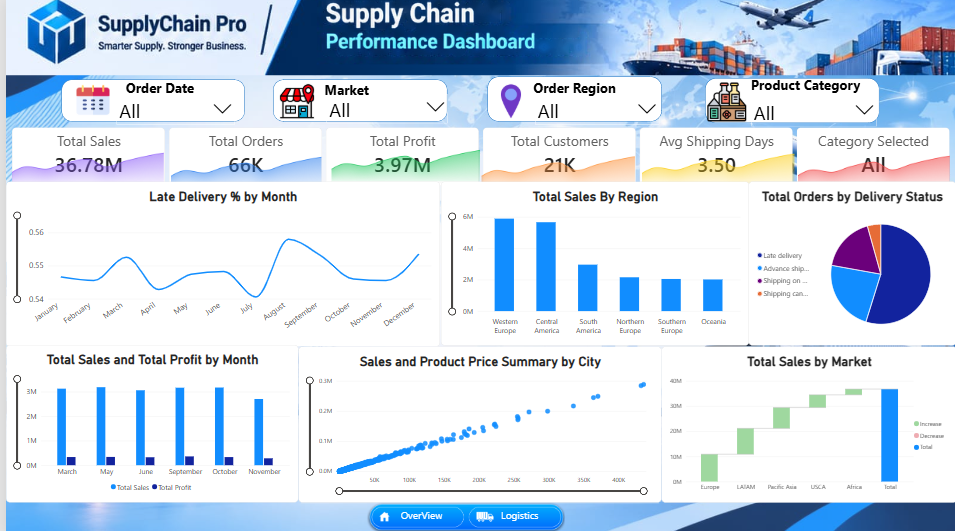

What the dashboard file says about the page in this screenshot:
{"tool":"powerbi","page":{"name":"OverView ","canvas":[1920,1080],"ordinal":0},"visuals":[{"type":"image","box":[1446.4,10.7,473.2,123.2],"z":0},{"type":"image","box":[0,0,1920,151.9],"z":1000},{"type":"shape","box":[112.4,161,370.6,85.1],"z":2000},{"type":"slicer","title":"  Market","fields":{"Values":["DataCoSupplyChainDataset.order date (DateOrders)"]},"box":[218.7,188.4,249.1,115.4],"z":3000},{"type":"shape","box":[103.3,148.9,416.2,54.7],"z":4000},{"type":"image","box":[1193.3,376.7,352.4,75.9],"z":4000,"group":"g1"},{"type":"shape","box":[540.8,161,352.4,85.1],"z":5000},{"type":"slicer","title":"  Market","fields":{"Values":["DataCoSupplyChainDataset.Market"]},"box":[641,185.3,255.2,115.4],"z":6000},{"type":"shape","box":[486.1,148.9,407.1,63.8],"z":7000},{"type":"shape","box":[972.2,154.9,352.4,91.1],"z":8000},{"type":"shape","box":[1412.7,158,352.4,91.1],"z":9000},{"type":"slicer","title":"  Market","fields":{"Values":["DataCoSupplyChainDataset.Order Region"]},"box":[1063.3,188.4,261.3,115.4],"z":10000},{"type":"slicer","title":"  Market","fields":{"Values":["DataCoSupplyChainDataset.Product Category Id"]},"box":[1500.8,191.4,264.3,115.4],"z":11000},{"type":"shape","box":[996.5,148.9,303.8,57.7],"z":12000},{"type":"shape","box":[1467.3,142.8,297.7,57.7],"z":13000},{"type":"image","box":[142.8,148.9,66.8,106.3],"z":14000},{"type":"image","box":[540.8,167.1,97.2,75.9],"z":15000},{"type":"image","box":[914.4,164.1,209.6,82],"z":16000},{"type":"image","box":[1412.7,167.1,88.1,79],"z":17000},{"type":"cardVisual","fields":{"Data":["DataCoSupplyChainDataset.Total Sales","DataCoSupplyChainDataset.Total Orders","DataCoSupplyChainDataset.Total Profit","DataCoSupplyChainDataset.Total Customers","DataCoSupplyChainDataset.Avg Shipping Days","DataCoSupplyChainDataset.Category Selected"]},"box":[12.2,258.2,1895.7,118.5],"z":18000},{"type":"image","box":[1283.3,270,307.8,133.6],"z":19000},{"type":"image","box":[334.2,237,303.8,212.7],"z":20000},{"type":"image","box":[12.2,282.5,306.8,106.3],"z":21000},{"type":"image","box":[960,282.5,309.9,121.5],"z":22000},{"type":"image","box":[1601,249.1,306.8,185.3],"z":23000},{"type":"lineChart","fields":{"Category":["DataCoSupplyChainDataset.order date (DateOrders).Variation.Date Hierarchy.Month"],"Y":["DataCoSupplyChainDataset.Late Delivery %"]},"box":[0,366.7,876.7,333.3],"z":24000},{"type":"group","id":"g1","title":"Group 1","box":[1193.3,376.7,353.3,76.7],"z":25000},{"type":"columnChart","title":"Total Sales By Region","fields":{"Category":["DataCoSupplyChainDataset.Order Region"],"Y":["DataCoSupplyChainDataset.Total Sales"]},"box":[878,367.6,622.8,331.1],"z":26000},{"type":"clusteredColumnChart","fields":{"Category":["DataCoSupplyChainDataset.order date (DateOrders).Variation.Date Hierarchy.Month"],"Y":["DataCoSupplyChainDataset.Total Sales","DataCoSupplyChainDataset.Total Profit"]},"box":[0,697,590.9,318.2],"z":27000},{"type":"pieChart","fields":{"Category":["DataCoSupplyChainDataset.Delivery Status"],"Y":["DataCoSupplyChainDataset.Total Orders"]},"box":[1500.8,367.6,419.2,331.1],"z":28000},{"type":"waterfallChart","fields":{"Category":["DataCoSupplyChainDataset.Market"],"Y":["DataCoSupplyChainDataset.Total Sales"]},"box":[1324.2,700,597,315.2],"z":29000},{"type":"scatterChart","title":"Sales and Product Price Summary by City","fields":{"Category":["DataCoSupplyChainDataset.Order City"],"X":["Sum(DataCoSupplyChainDataset.Sales)"],"Y":["Sum(DataCoSupplyChainDataset.Product Price)"]},"box":[590.9,700,733.3,315.2],"z":30000},{"type":"image","box":[221.2,1015.2,1415.2,63.6],"z":31000},{"type":"image","box":[656.7,180,300,300],"z":32000},{"type":"actionButton","box":[690.9,1006.1,297,72.7],"z":32001},{"type":"actionButton","box":[987.9,1021.2,100,40],"z":32002}]}

Visuals, with their boxes in screenshot pixels (x1, y1, x2, y2), scaled from the page's 1920x1080 canvas onto the 955x531 screenshot:
image: select_region(719, 5, 954, 66)
image: select_region(0, 0, 954, 75)
shape: select_region(56, 79, 240, 121)
"  Market" slicer: select_region(109, 93, 233, 149)
shape: select_region(51, 73, 258, 100)
image: select_region(594, 185, 769, 223)
shape: select_region(269, 79, 444, 121)
"  Market" slicer: select_region(319, 91, 446, 148)
shape: select_region(242, 73, 444, 105)
shape: select_region(484, 76, 659, 121)
shape: select_region(703, 78, 878, 122)
"  Market" slicer: select_region(529, 93, 659, 149)
"  Market" slicer: select_region(746, 94, 878, 151)
shape: select_region(496, 73, 647, 102)
shape: select_region(730, 70, 878, 99)
image: select_region(71, 73, 104, 125)
image: select_region(269, 82, 317, 119)
image: select_region(455, 81, 559, 121)
image: select_region(703, 82, 746, 121)
cardVisual - DataCoSupplyChainDataset.Total Sales x DataCoSupplyChainDataset.Total Orders: select_region(6, 127, 949, 185)
image: select_region(638, 133, 791, 198)
image: select_region(166, 117, 317, 221)
image: select_region(6, 139, 159, 191)
image: select_region(478, 139, 632, 199)
image: select_region(796, 122, 949, 214)
lineChart - DataCoSupplyChainDataset.order date (DateOrders).Variation.Date Hierarchy.Month x DataCoSupplyChainDataset.Late Delivery %: select_region(0, 180, 436, 344)
"Group 1" group: select_region(594, 185, 769, 223)
"Total Sales By Region" columnChart: select_region(437, 181, 746, 344)
clusteredColumnChart - DataCoSupplyChainDataset.order date (DateOrders).Variation.Date Hierarchy.Month x DataCoSupplyChainDataset.Total Sales: select_region(0, 343, 294, 499)
pieChart - DataCoSupplyChainDataset.Delivery Status x DataCoSupplyChainDataset.Total Orders: select_region(746, 181, 954, 344)
waterfallChart - DataCoSupplyChainDataset.Market x DataCoSupplyChainDataset.Total Sales: select_region(659, 344, 954, 499)
"Sales and Product Price Summary by City" scatterChart: select_region(294, 344, 659, 499)
image: select_region(110, 499, 814, 530)
image: select_region(327, 88, 476, 236)
actionButton: select_region(344, 495, 491, 530)
actionButton: select_region(491, 502, 541, 522)
